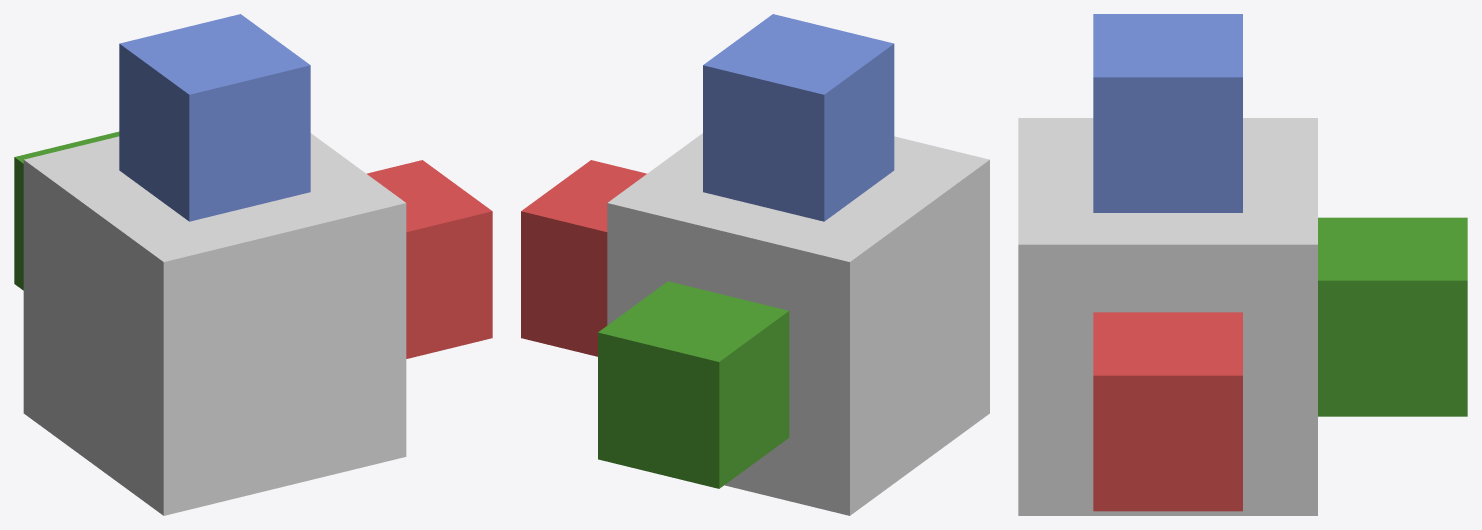
Rendered from TestCoor.fbx.
3 views of the same model, side by side, from view 1: azimuth 30°, elevation 25°; view 2: azimuth 150°, elevation 25°; view 3: azimuth 270°, elevation 25° (orthographic). The views are drawn at different scales.
Parts seen in each view (by area): view 1: Cube, Z, X, Y; view 2: Cube, Z, Y, X; view 3: Cube, X, Y, Z.
Boxes of the visible parts, left/top/right/bottom form: Cube: left=23, top=133, right=406, bottom=515; Z: left=119, top=14, right=310, bottom=221; X: left=367, top=160, right=492, bottom=358; Y: left=14, top=131, right=119, bottom=290; Cube: left=607, top=133, right=989, bottom=515; Z: left=703, top=14, right=894, bottom=221; Y: left=598, top=281, right=789, bottom=488; X: left=521, top=160, right=646, bottom=356; Cube: left=1018, top=118, right=1317, bottom=515; X: left=1093, top=312, right=1242, bottom=511; Y: left=1318, top=217, right=1467, bottom=416; Z: left=1093, top=14, right=1242, bottom=212.
Bounding box in the file's own units: 300 × 300 × 300.
